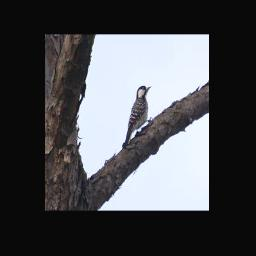Woodpecker: (119, 81, 155, 152)
